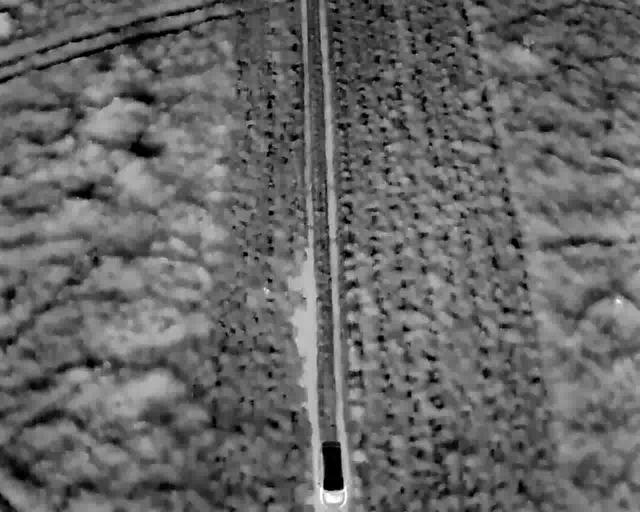car: (315, 438, 349, 509)
